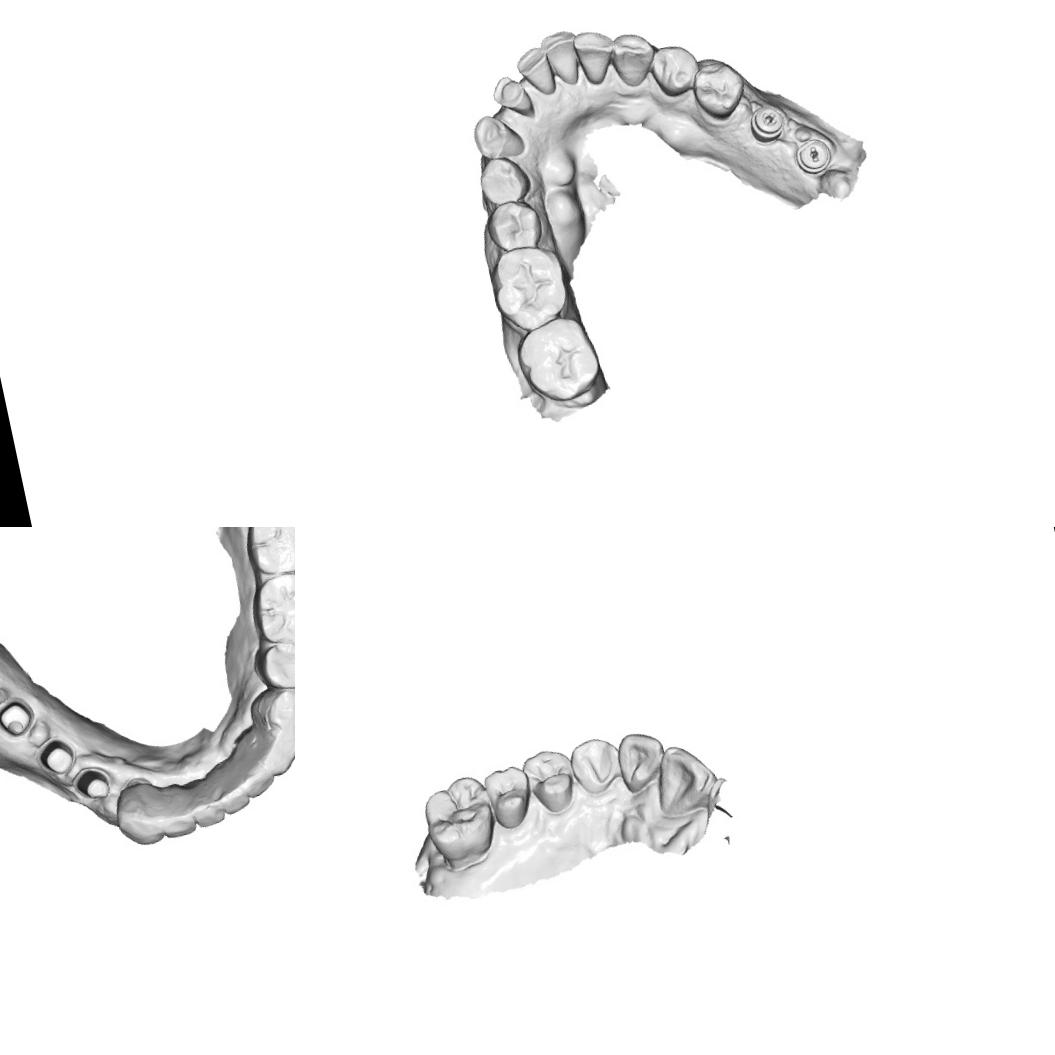abutment: (32, 732, 81, 783), (68, 762, 114, 805), (0, 692, 38, 741)
canine: (109, 778, 167, 851), (566, 733, 625, 798), (468, 108, 528, 165), (606, 28, 661, 90), (243, 720, 295, 782)
implant_minus: (790, 134, 834, 178)
implant_plus: (746, 102, 788, 147)
incisor: (645, 736, 723, 820), (611, 726, 670, 794), (570, 26, 621, 88), (537, 27, 586, 91), (205, 759, 252, 818), (488, 71, 538, 126), (154, 780, 199, 840), (512, 43, 559, 100), (187, 774, 229, 832), (233, 753, 280, 802)
molar: (510, 310, 607, 412), (484, 238, 575, 338), (416, 771, 501, 872), (246, 568, 295, 651), (237, 527, 295, 582)
premolar: (519, 745, 578, 817), (688, 56, 751, 123), (482, 761, 538, 834), (482, 195, 546, 256), (244, 677, 295, 749), (645, 40, 704, 101), (474, 150, 534, 209), (248, 633, 295, 697)
